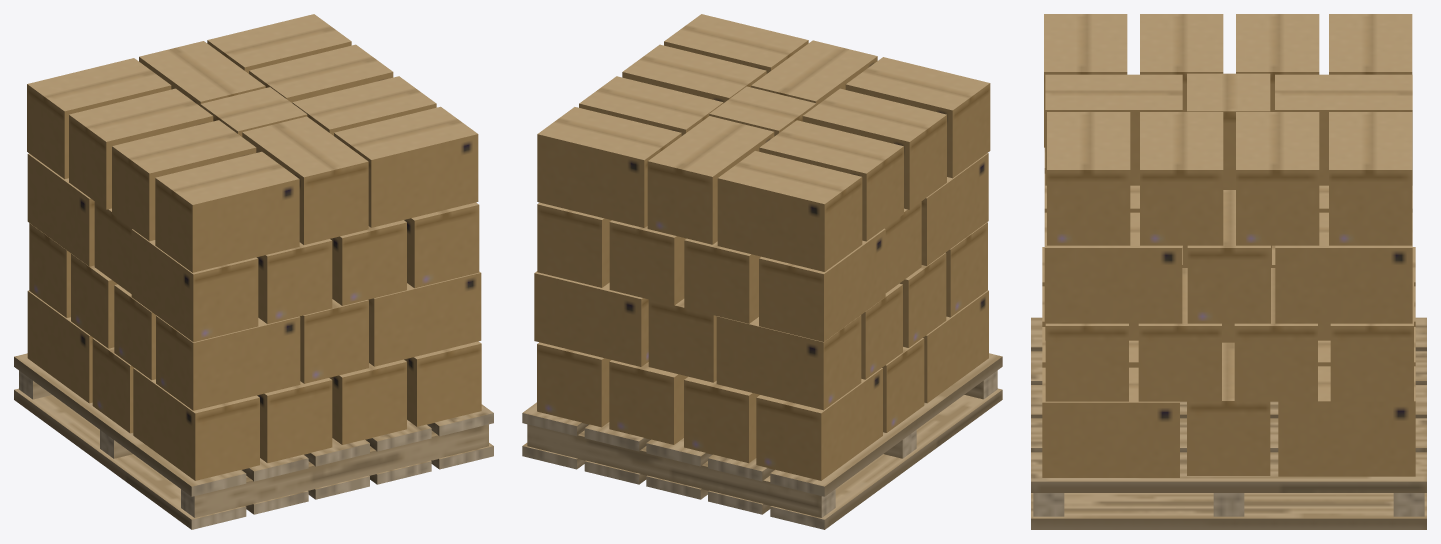
File: Box_Set_001_A.FBX
The picture shows the model from 3 angles, left to right: view 1: azimuth 30°, elevation 25°; view 2: azimuth 150°, elevation 25°; view 3: azimuth 270°, elevation 25°; orthographic projection. The views are drawn at different scales.
Visible parts, largest first — view 1: Box_Set_001_A; view 2: Box_Set_001_A; view 3: Box_Set_001_A.
Part boxes in pixels (x1,y1,x2,y2): Box_Set_001_A: [14, 14, 493, 529]; Box_Set_001_A: [522, 14, 1002, 529]; Box_Set_001_A: [1031, 14, 1426, 529].
Size of the model in its own units: 93.25 by 95 by 94.1.
